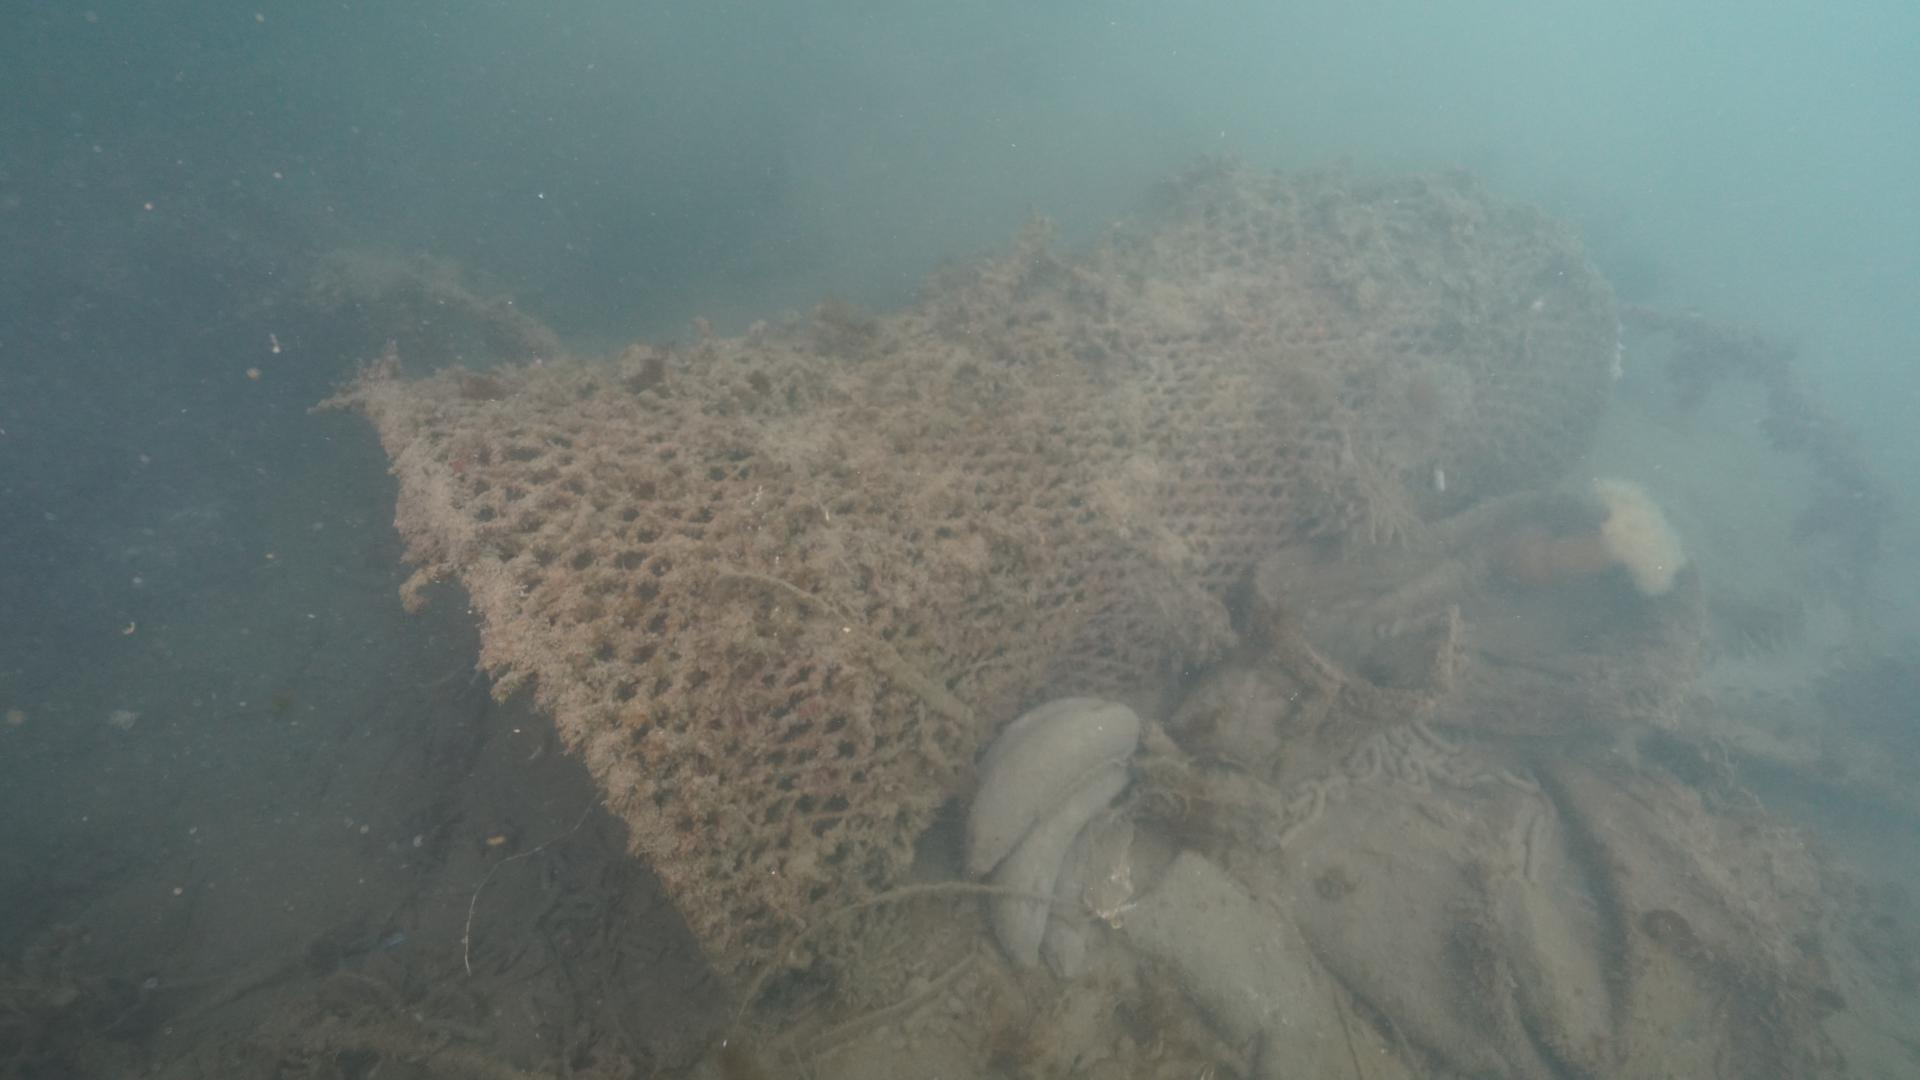spring fish trap: (316, 144, 1630, 1015)
